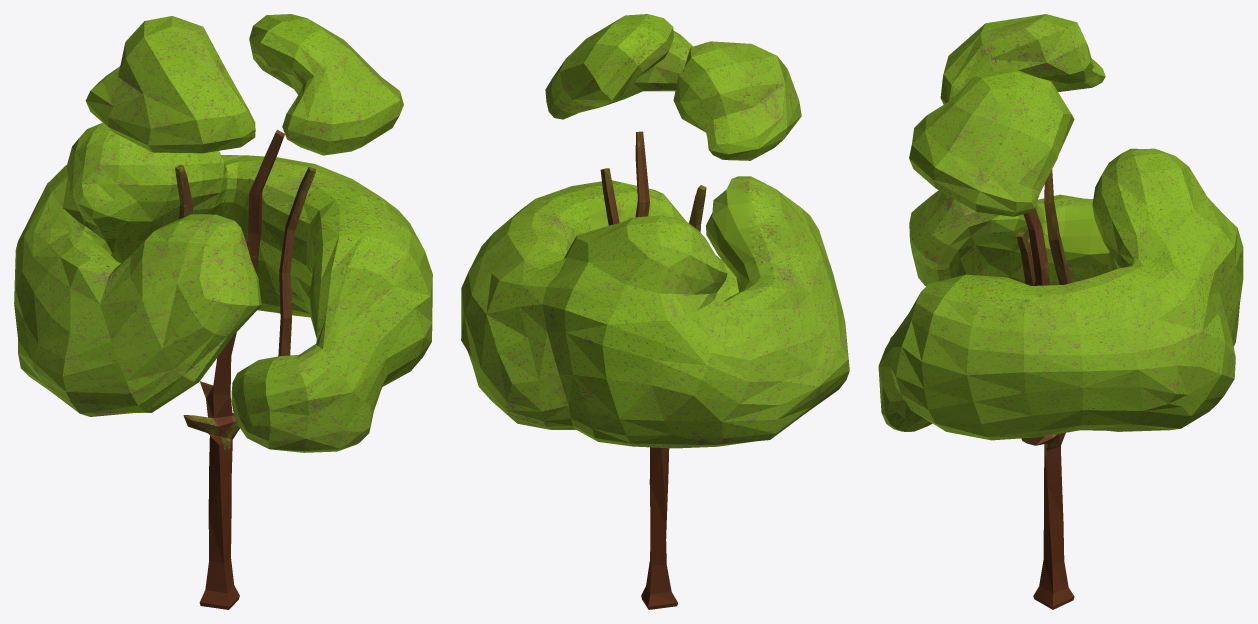
Rendered from small tree 2.obj.
3 views of the same model, side by side, from view 1: azimuth 30°, elevation 25°; view 2: azimuth 150°, elevation 25°; view 3: azimuth 270°, elevation 25° (orthographic). The views are drawn at different scales.
Parts seen in each view (by area): view 1: tripo_node_9417ff90-a727-4a1b-ac49-c3e5c4d44c3d; view 2: tripo_node_9417ff90-a727-4a1b-ac49-c3e5c4d44c3d; view 3: tripo_node_9417ff90-a727-4a1b-ac49-c3e5c4d44c3d.
Part boxes in pixels (x1=…): tripo_node_9417ff90-a727-4a1b-ac49-c3e5c4d44c3d: x1=14, y1=14, x2=432, y2=609; tripo_node_9417ff90-a727-4a1b-ac49-c3e5c4d44c3d: x1=461, y1=14, x2=849, y2=609; tripo_node_9417ff90-a727-4a1b-ac49-c3e5c4d44c3d: x1=878, y1=14, x2=1243, y2=609.
Bounding box in the file's own units: 0.6248 × 0.9933 × 0.5897.
